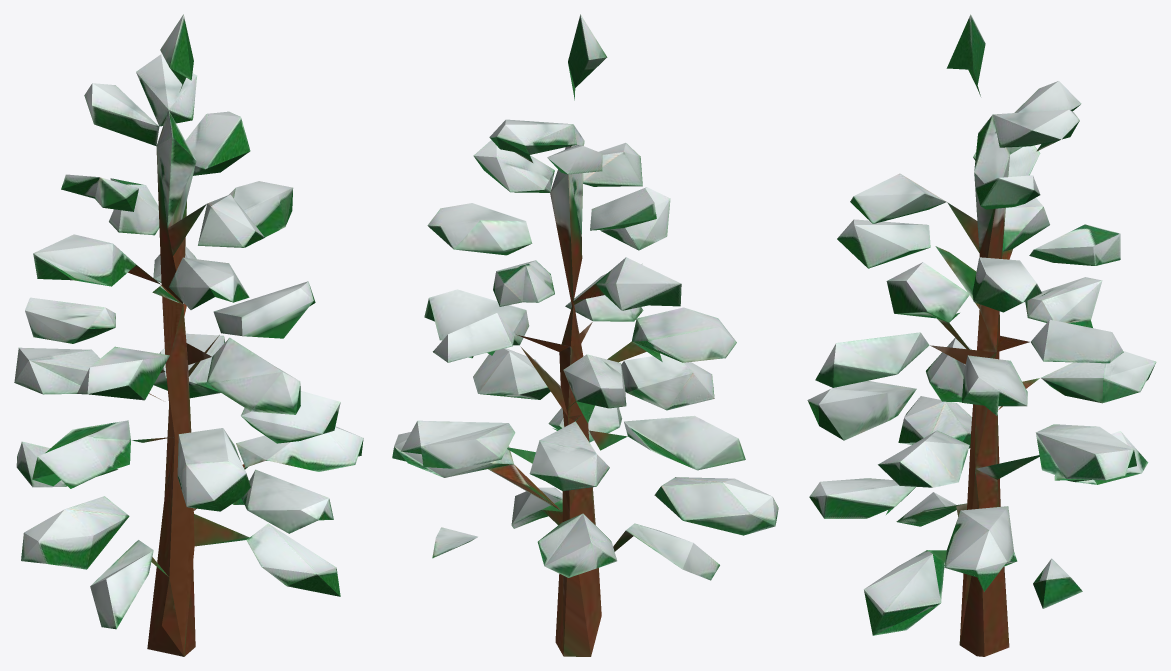
The model's file is e_tanne.glb.
3 views of the same model, side by side, from view 1: azimuth 30°, elevation 25°; view 2: azimuth 150°, elevation 25°; view 3: azimuth 270°, elevation 25° (orthographic).
Size of the model in its own units: 1.13 by 1.9 by 0.9446.
Materials: 1 (1 with a texture image).
